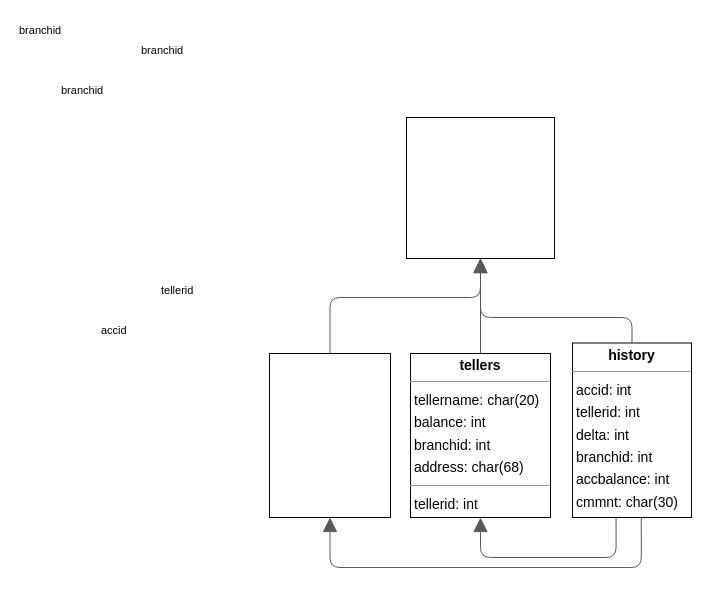
This 709x599 diagram has some shape labels left out. The box of each missing label's shape, as (x1, y1, x2, y2) in pixels:
accounts name: char(20) balance: int branchid: int address: char(68) accid: int: (268, 352, 390, 518)
branches branchname: char(20) balance: int address: char(72) branchid: int: (406, 116, 554, 258)
